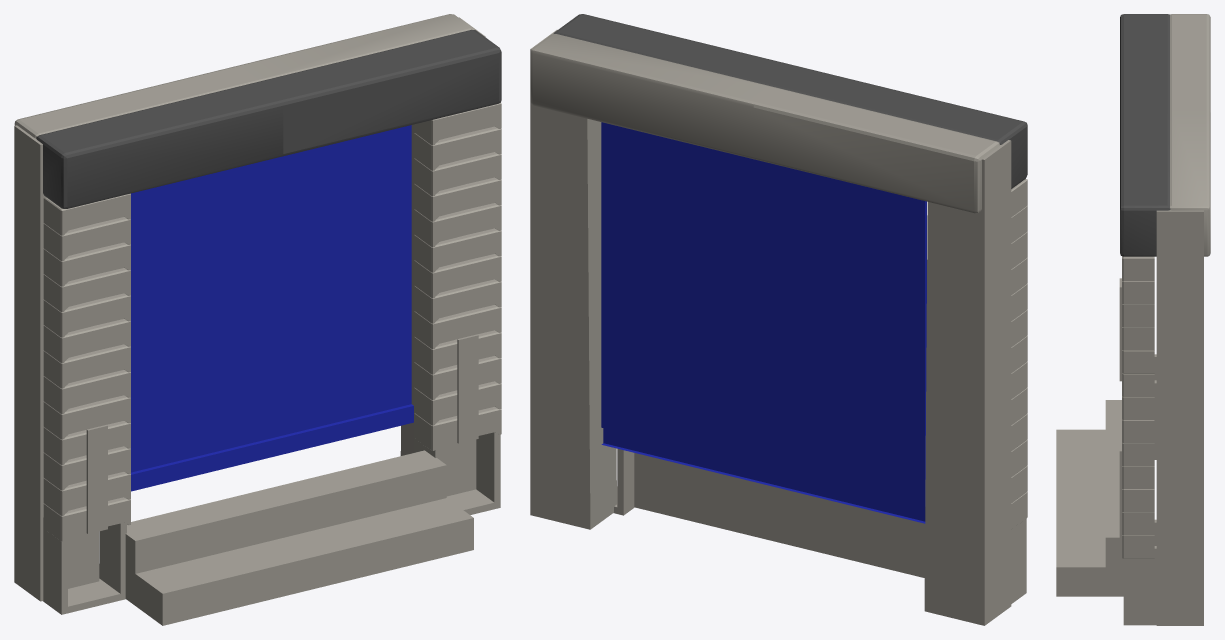
Rendered from garage_door.fbx.
3 views of the same model, side by side, from view 1: azimuth 30°, elevation 25°; view 2: azimuth 150°, elevation 25°; view 3: azimuth 270°, elevation 25° (orthographic). The views are drawn at different scales.
Visible parts, largest first — view 1: garage_door; view 2: garage_door; view 3: garage_door.
Part boxes in pixels (x1,y1,x2,y2): garage_door: (14,14,501,625); garage_door: (530,14,1027,625); garage_door: (1056,14,1210,625).
Bounding box in the file's own units: 459 × 454 × 152.
